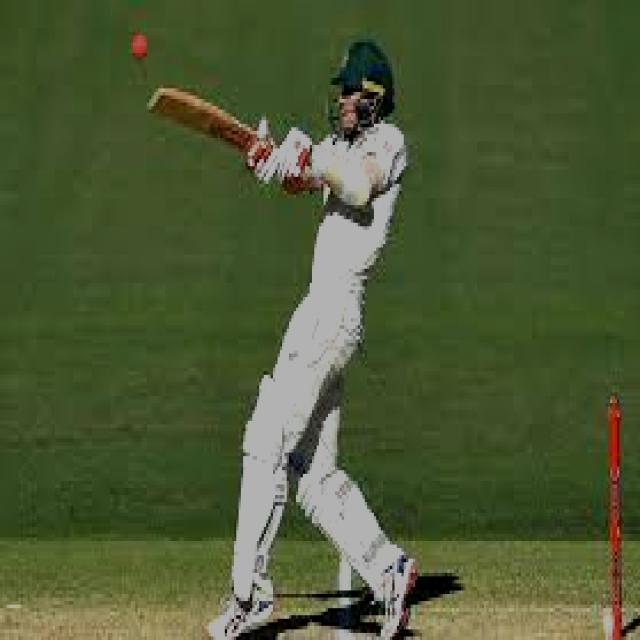toe: (141, 86, 171, 115)
